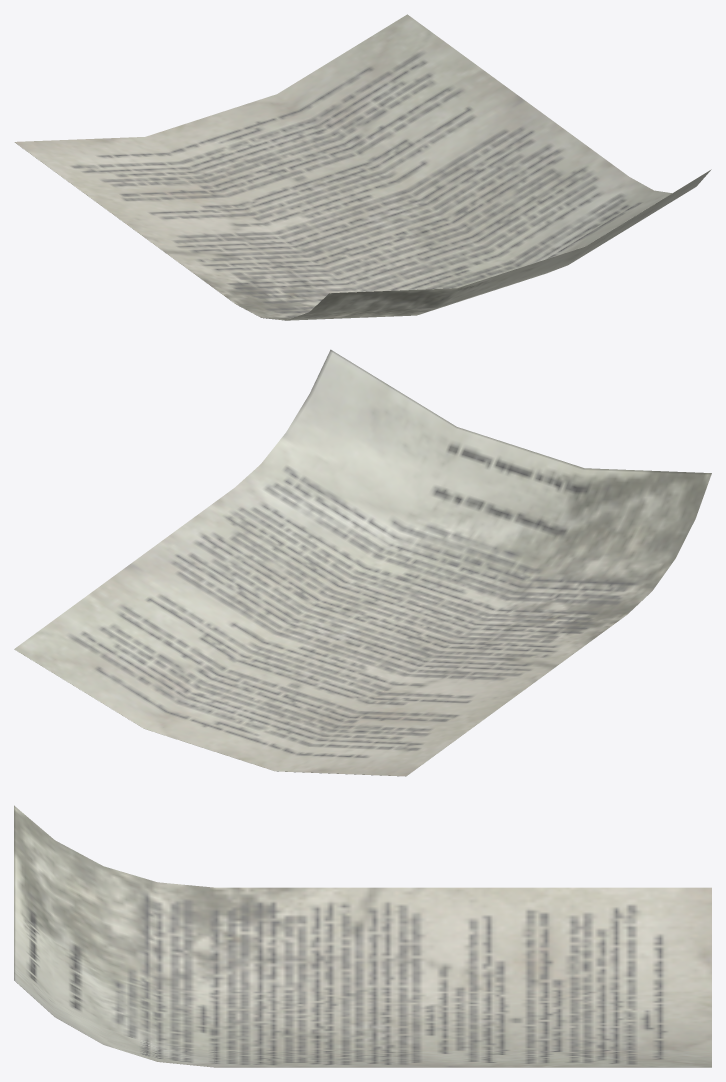
Rendered from Paper_C.obj.
3 renders of one model, top to bottom at view 1: azimuth 30°, elevation 25°; view 2: azimuth 150°, elevation 25°; view 3: azimuth 270°, elevation 25°, orthographic. The views are drawn at different scales.
Visible parts, largest first — view 1: Paper_C; view 2: Paper_C; view 3: Paper_C.
Boxes of the visible parts, box(x1,y1,x2,y2) form: Paper_C: box(14, 14, 711, 320); Paper_C: box(14, 349, 711, 776); Paper_C: box(14, 805, 711, 1067).
Bounding box in the file's own units: 12.46 × 4.03 × 17.06.
